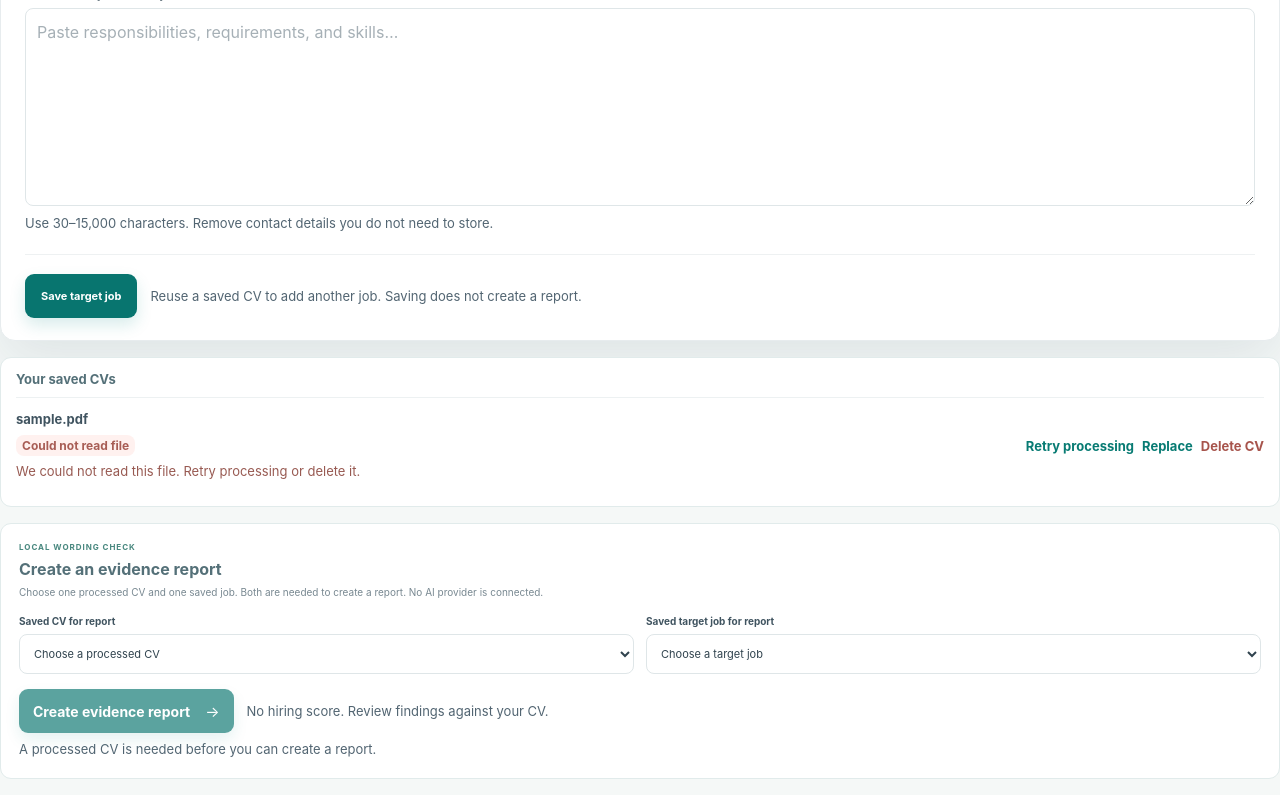
Test case: Assessment interactions › does not announce success when CV retry saves a failed parse state
The width and height of the screenshot is (1280, 795).
(page scrolled)
Click the button with aria-label "Retry processing sample.pdf". click: (1080, 446)
box: [1026,424,1134,468]
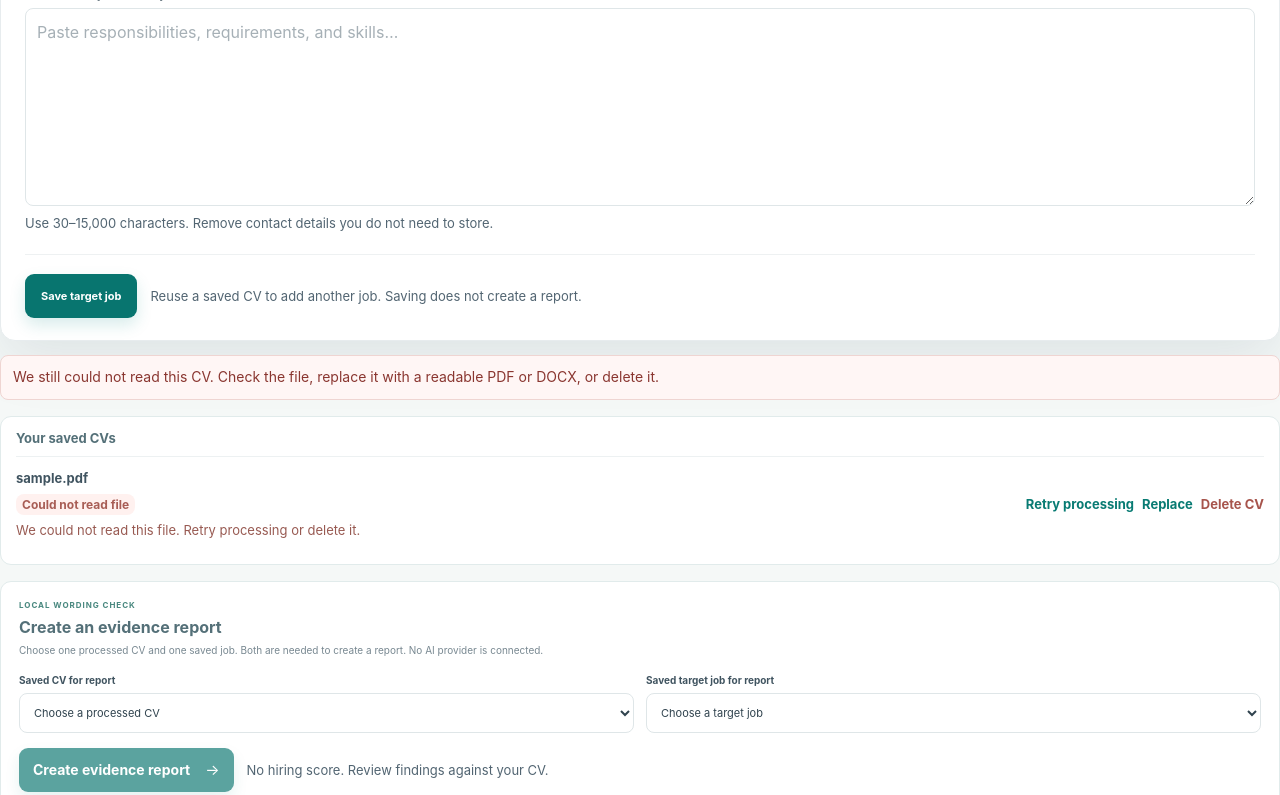
Expected: the button with aria-label "Retry processing sample.pdf" is enabled, [1026,482,1134,526]
Expected: the text "We still could not read this CV. Check the file, replace it with a readable PDF or DOCX, or delete it." is shown, [13,368,659,385]
